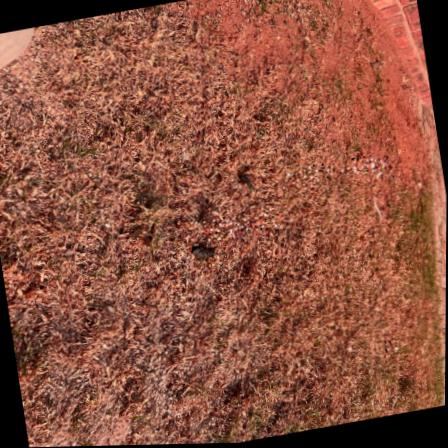dog-poop: (182, 232, 226, 272), (234, 161, 262, 198)
